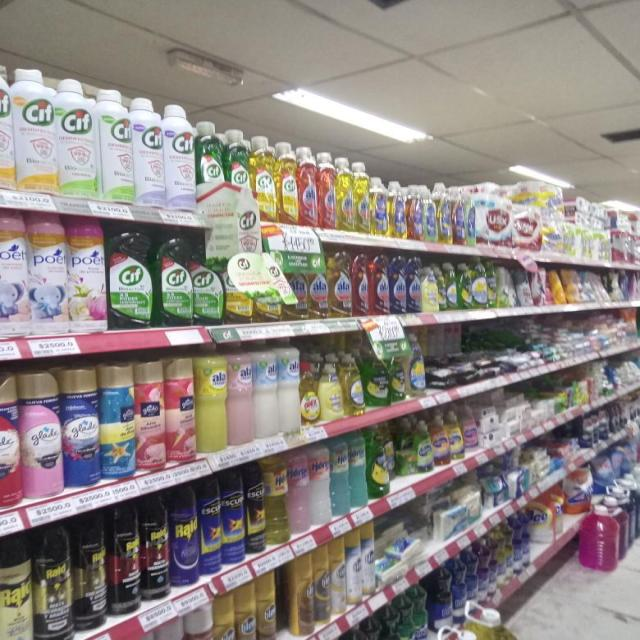ala_conc_amarillo: (329, 251, 352, 318), (309, 251, 329, 320), (336, 156, 354, 232), (293, 251, 308, 320)
ala_conc_azul: (390, 256, 407, 314), (407, 256, 421, 313)
ala_conc_rojo: (298, 145, 318, 228), (318, 150, 336, 230), (370, 254, 390, 316), (352, 252, 369, 317)
ala_crem_amarillo: (196, 343, 227, 453)
ala_crem_blanco: (254, 341, 278, 439), (278, 341, 300, 432)
ala_crem_rosado: (228, 341, 253, 445)
cif_conc_bot_amarilla: (225, 244, 259, 324), (252, 134, 276, 224), (252, 246, 279, 323), (276, 141, 298, 225)
cif_conc_botella_verde: (108, 229, 153, 330), (154, 233, 190, 328), (192, 240, 223, 326), (197, 121, 225, 213), (227, 128, 251, 219)
heroe: (288, 449, 309, 537), (310, 444, 330, 526), (330, 437, 350, 518)
magistral_con_amarillo: (291, 550, 314, 636), (314, 544, 330, 627), (330, 538, 346, 618), (370, 171, 388, 236)
